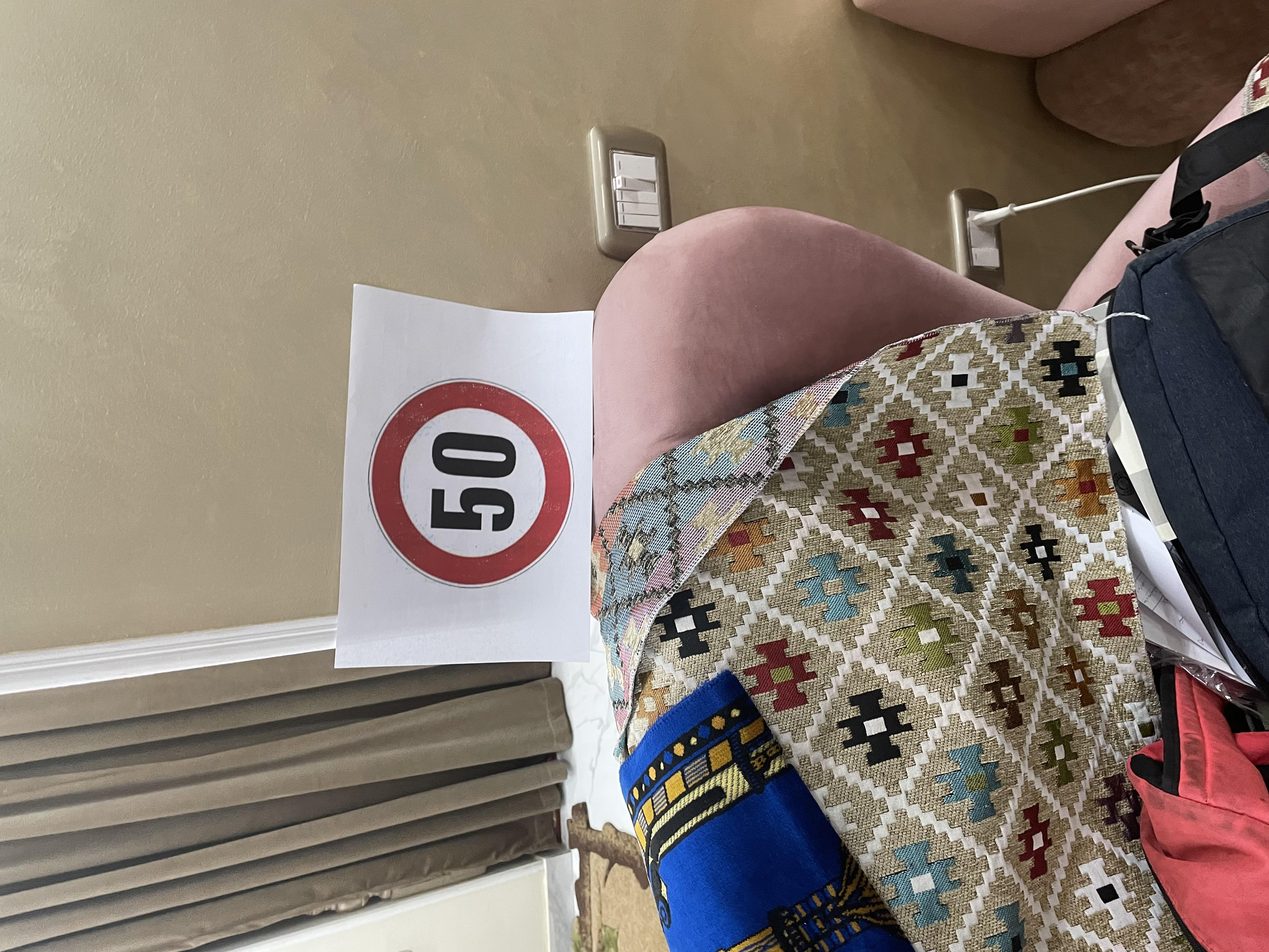50-Speed: (483, 272, 764, 436)
